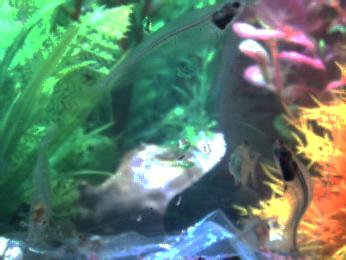X-ray fish: (1, 229, 69, 260), (228, 207, 273, 252), (227, 140, 260, 191)
glassfish: (78, 1, 248, 103), (271, 138, 315, 260)
siberian prawn: (49, 224, 166, 260), (19, 132, 53, 245)
